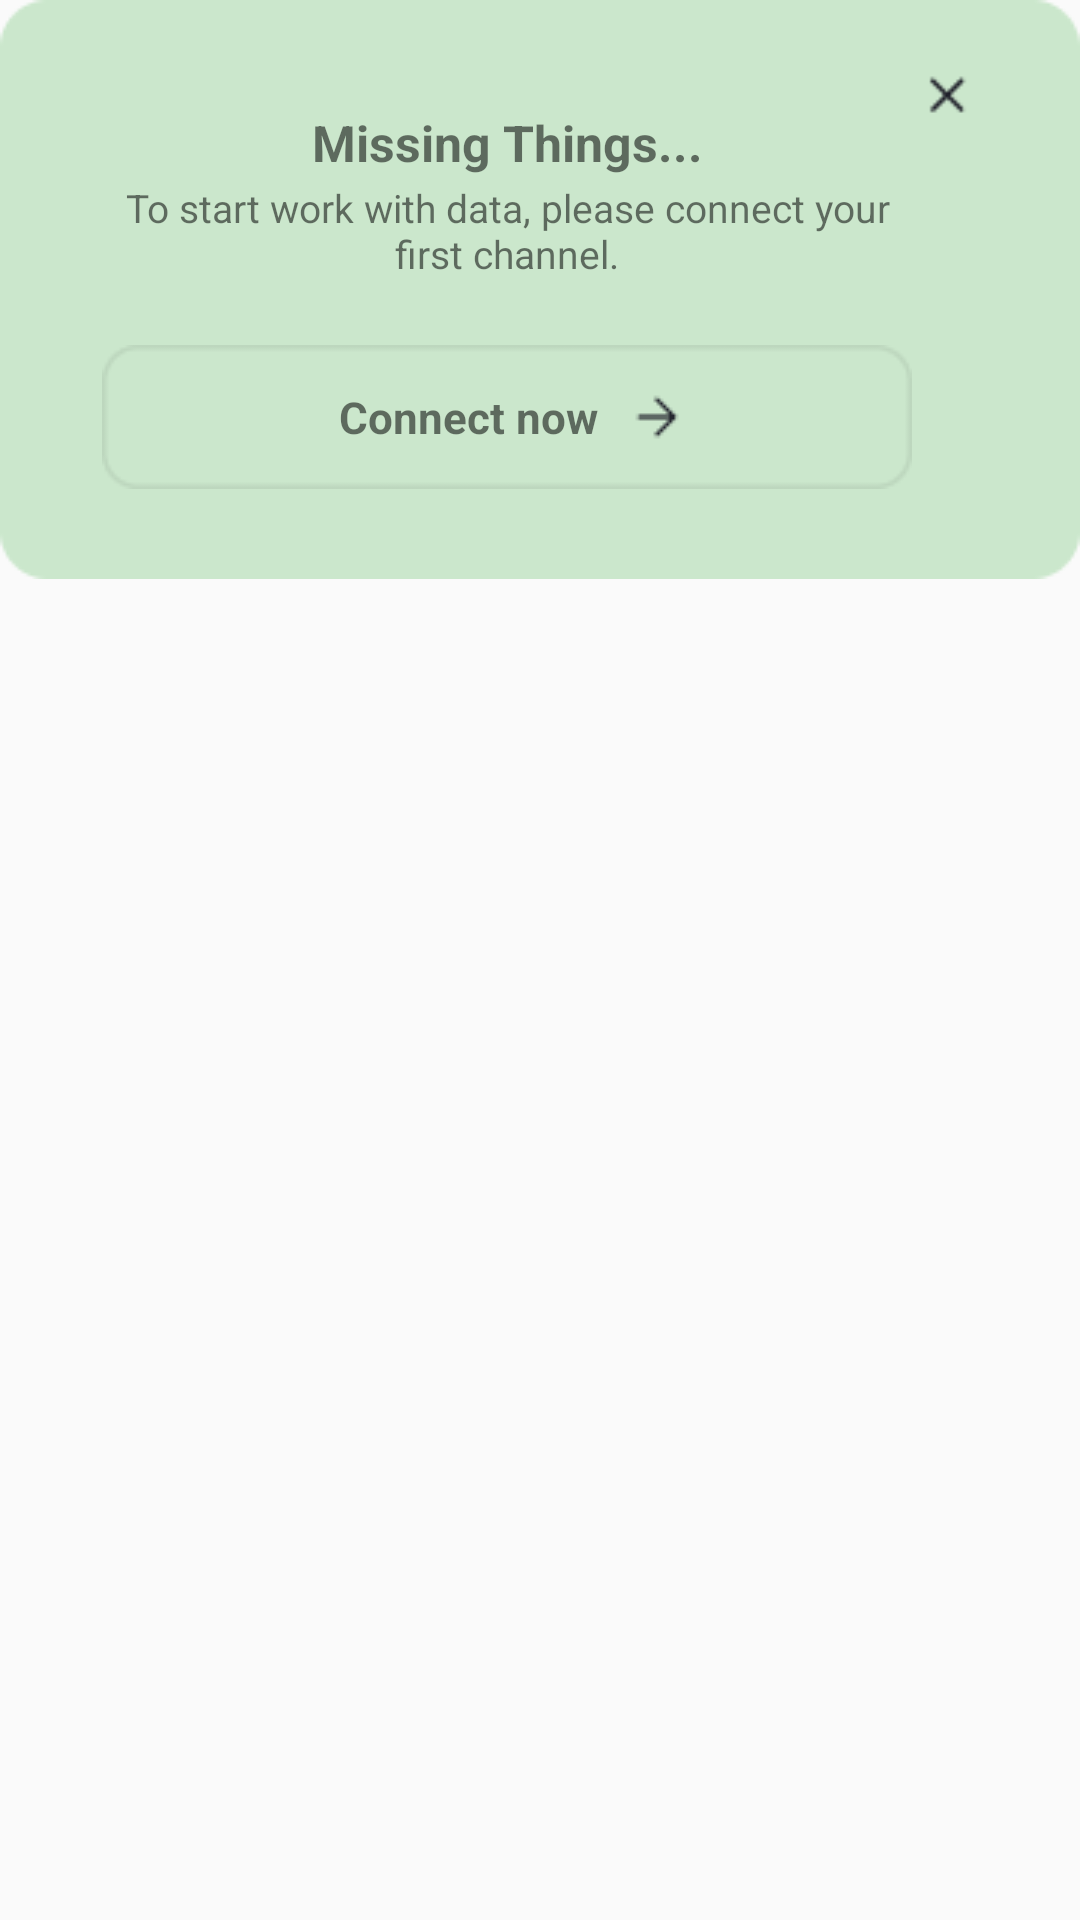

Named icons in this screenshot (1080px×1920px) and their bounding boxes, bbox=[x1, y1, x2, y2]:
arrow right: bbox=[636, 396, 678, 438]
